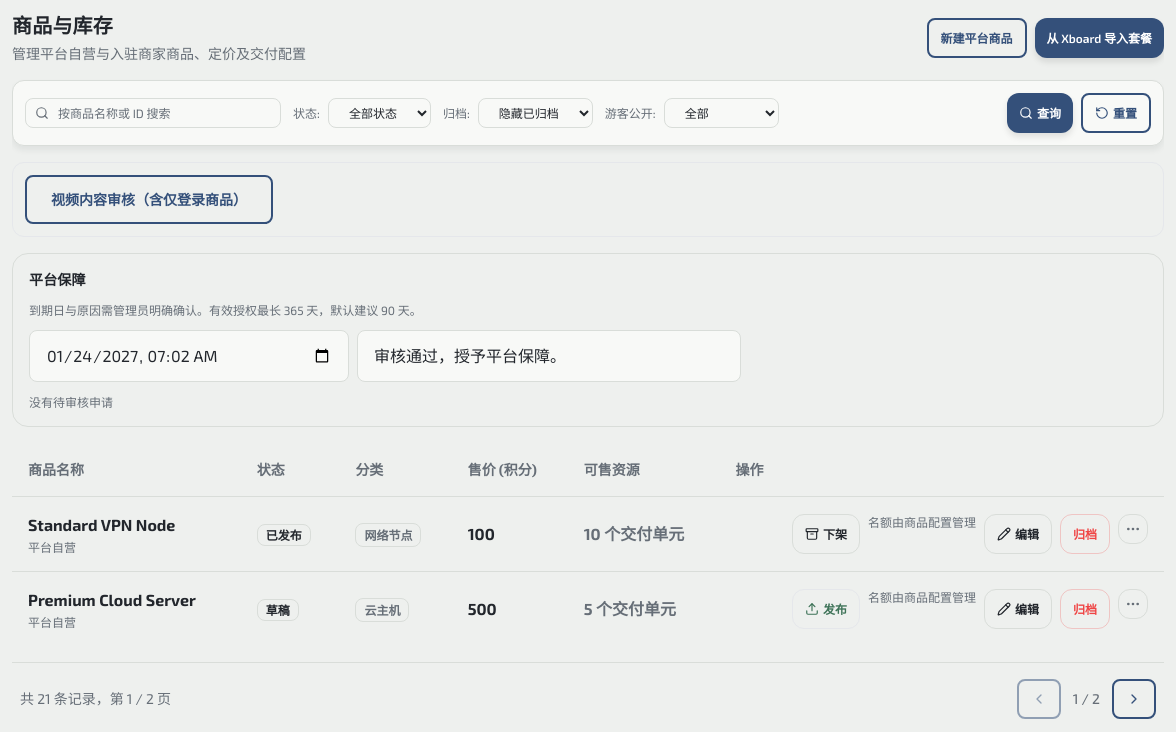
Scenario: AdminProductPanel (PR 04) › automatically falls back to previous valid page when current page becomes empty
Expected: the text "Standard VPN Node" is shown, [28,515,175,534]
Step 1. Click the button named "下一页" → coordinates (1134, 699), box [1112,679,1156,719]
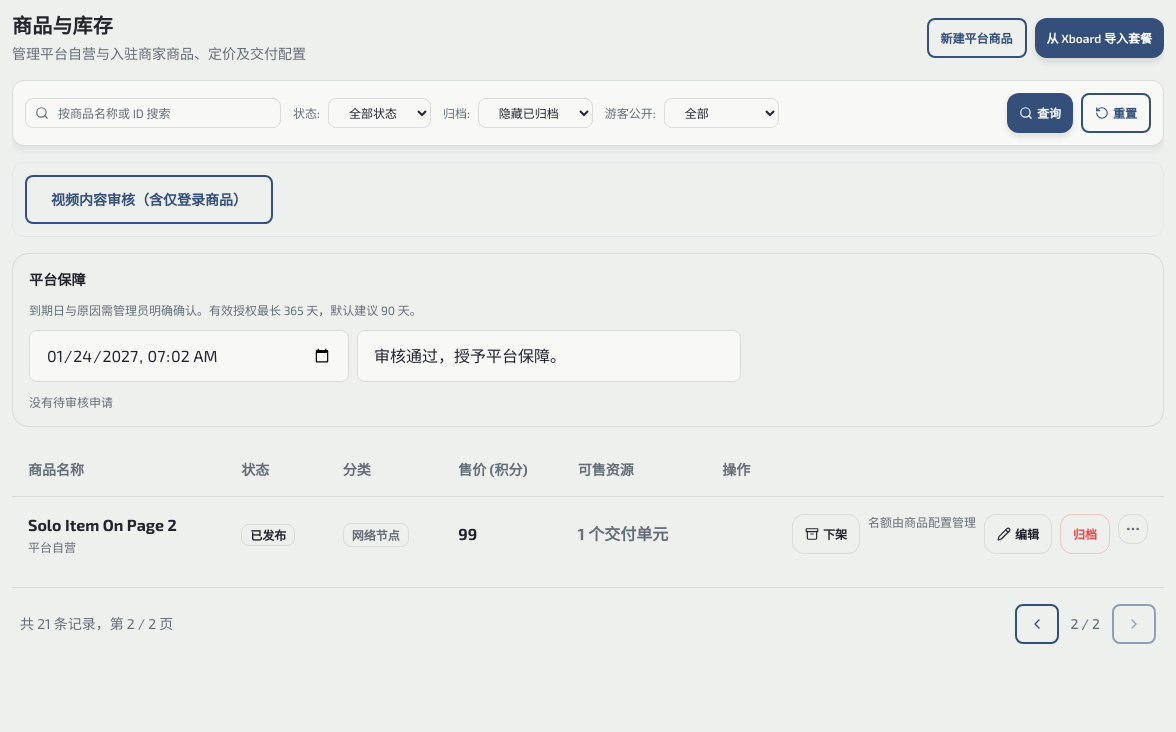
Result: the text "Solo Item On Page 2" is shown at [28,515,177,534]
Step 2. Click the button with test id "admin-products-search-btn" → coordinates (1040, 113), box [1007,93,1073,133]
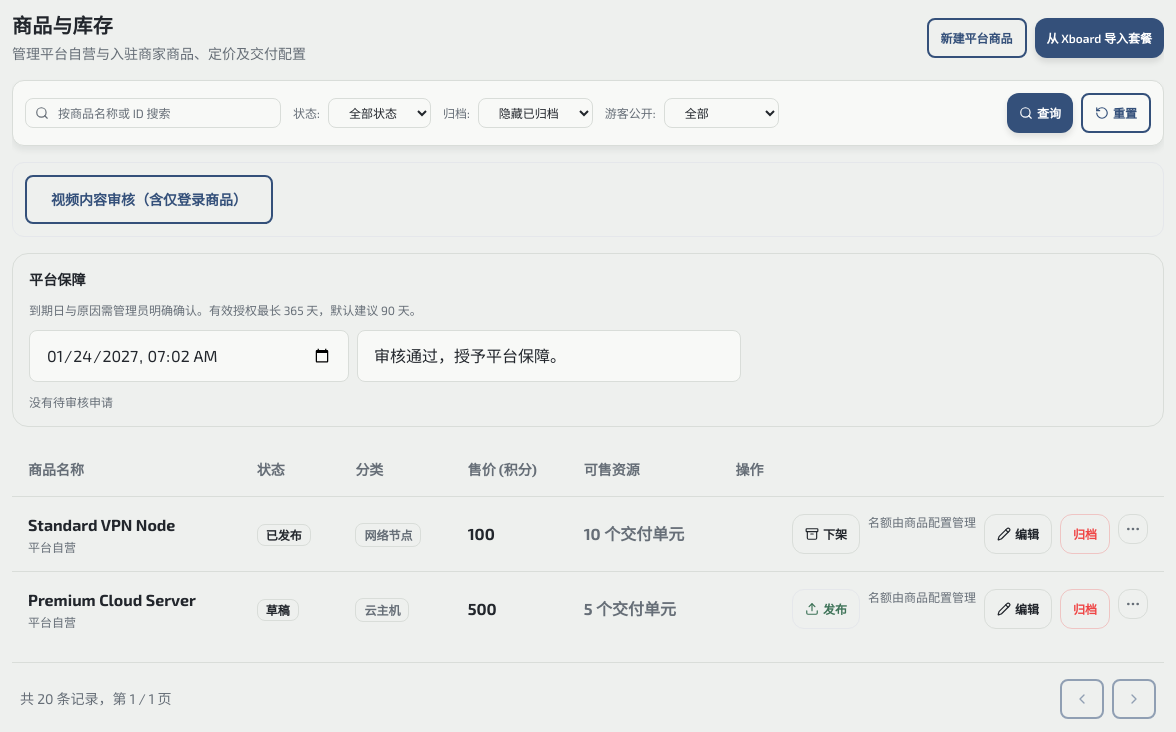
Result: the text "Standard VPN Node" is shown at [28,515,175,534]
